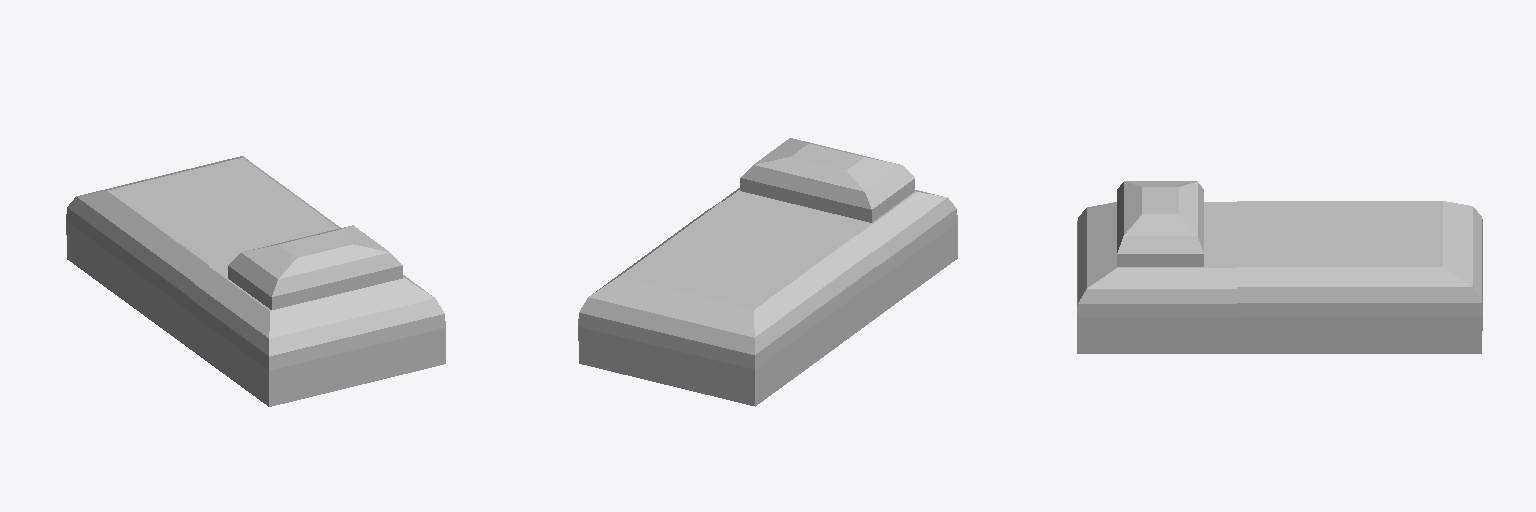
The model's file is bed_single_forsakenmountains.obj.
3 renders of one model, left to right at view 1: azimuth 30°, elevation 25°; view 2: azimuth 150°, elevation 25°; view 3: azimuth 270°, elevation 25°, orthographic.
Visible parts, largest first — view 1: bed_forsaken_mountain; view 2: bed_forsaken_mountain; view 3: bed_forsaken_mountain.
Boxes of the visible parts, box(x1,y1,x2,y2) form: bed_forsaken_mountain: box(66, 156, 445, 406); bed_forsaken_mountain: box(578, 138, 957, 406); bed_forsaken_mountain: box(1077, 181, 1482, 353).
Bounding box in the file's own units: 0.705 × 0.4212 × 1.41.